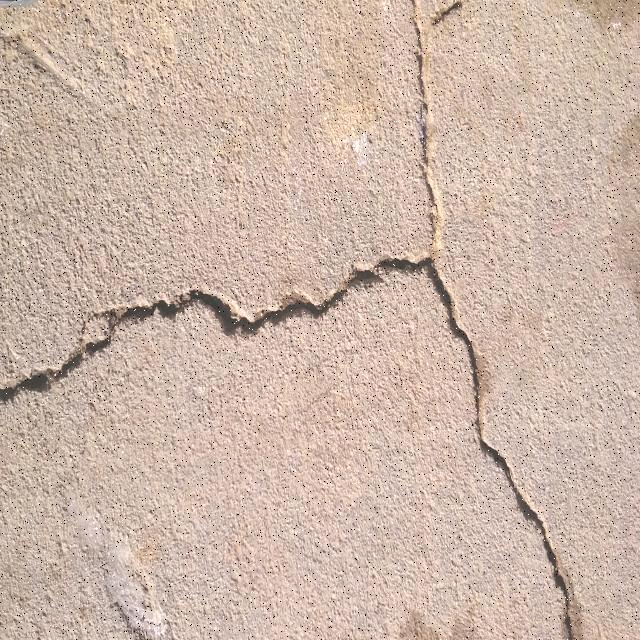Crack: (0, 258, 574, 640), (409, 0, 438, 253), (434, 1, 462, 25), (0, 0, 32, 5)
